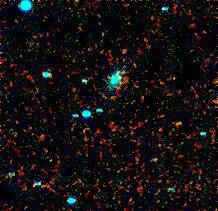star: (167, 110, 197, 140)
